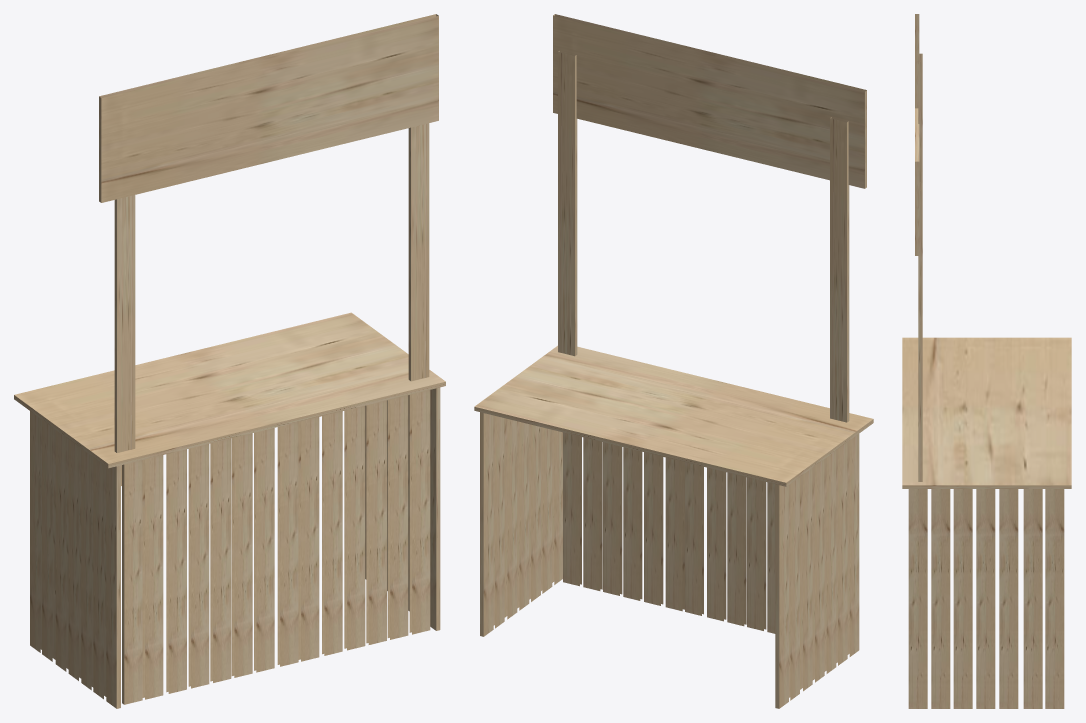
Rendered from LemonadeStand.glb.
3 renders of one model, left to right at view 1: azimuth 30°, elevation 25°; view 2: azimuth 150°, elevation 25°; view 3: azimuth 270°, elevation 25°, orthographic. The views are drawn at different scales.
Visible parts, largest first — view 1: LemonadeStand; view 2: LemonadeStand; view 3: LemonadeStand.
Boxes of the visible parts, box(x1,y1,x2,y2) form: LemonadeStand: box(14, 14, 445, 708); LemonadeStand: box(474, 14, 873, 708); LemonadeStand: box(902, 14, 1071, 708).
Size of the model in its own units: 12.16 by 21.04 by 5.89.
Materials: 1 (1 with a texture image).
